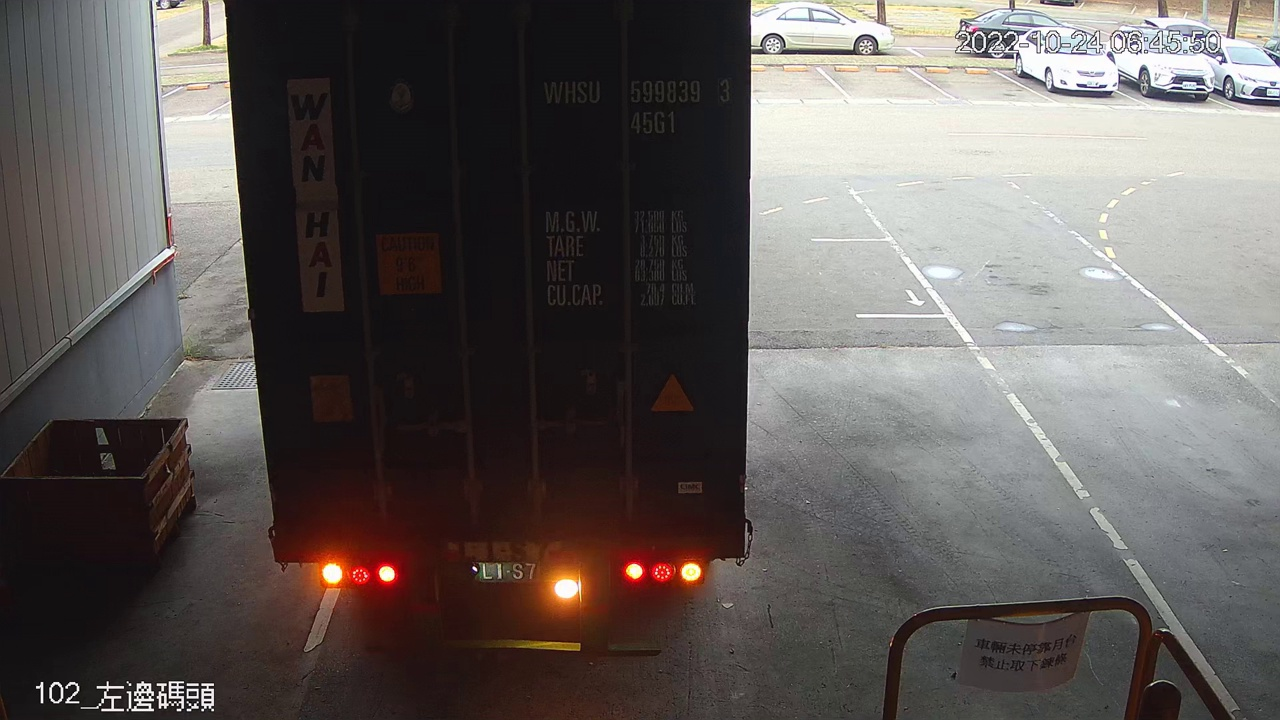container: (533, 70, 743, 142)
